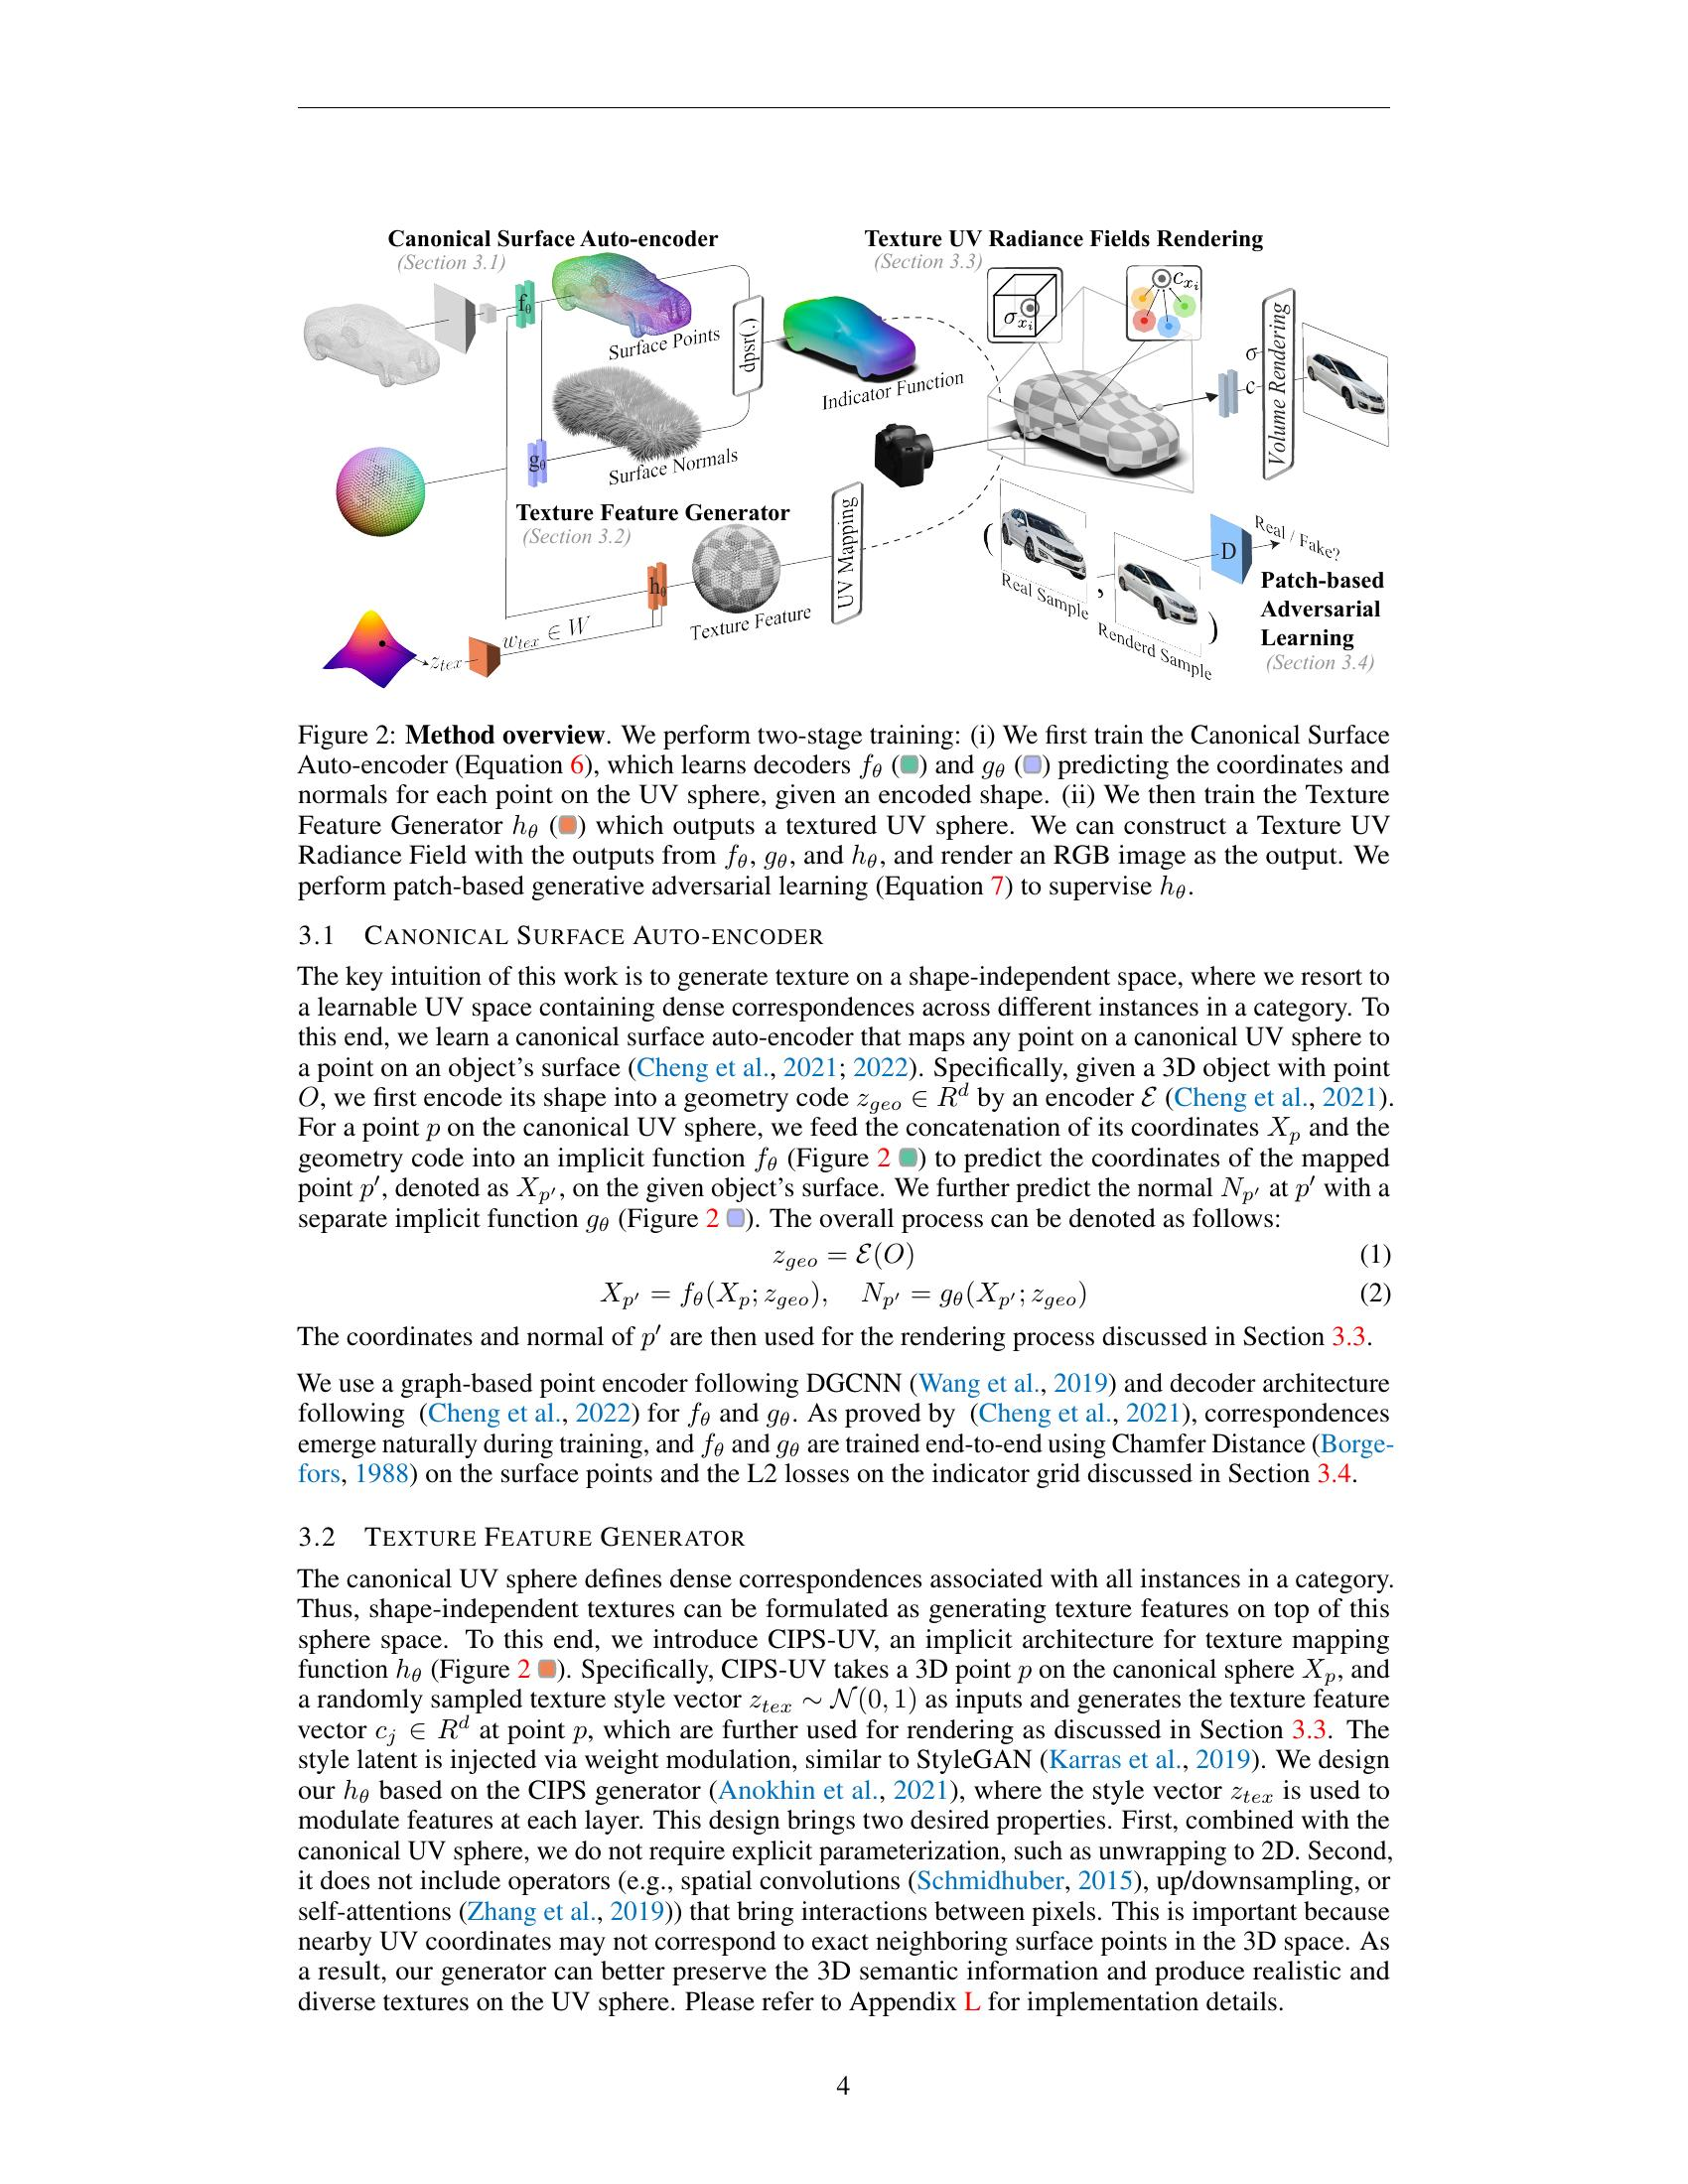figure: (287, 220, 1399, 908)
text: (287, 1517, 1399, 2026), (287, 916, 1399, 1354), (287, 1363, 1399, 1494)
